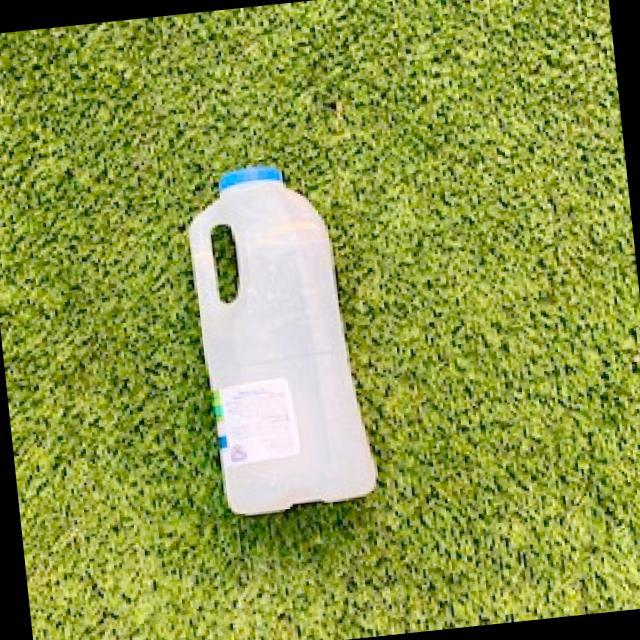HDPE Plastic: (186, 166, 380, 518)
